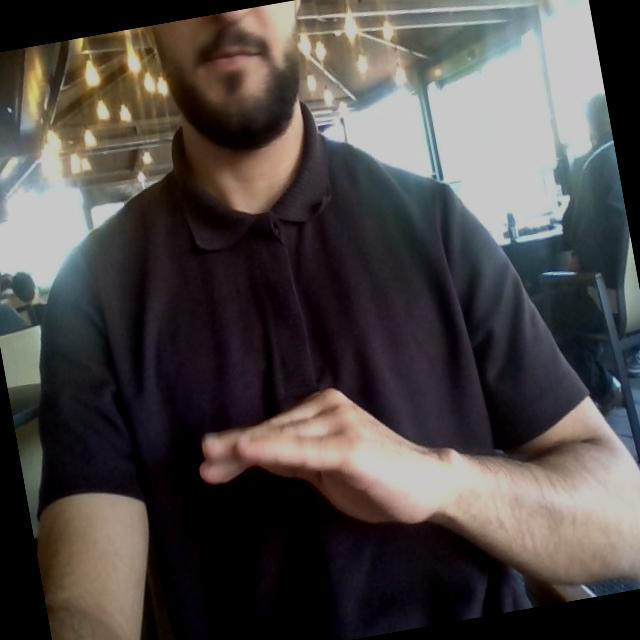Hand: (200, 390, 456, 523)
